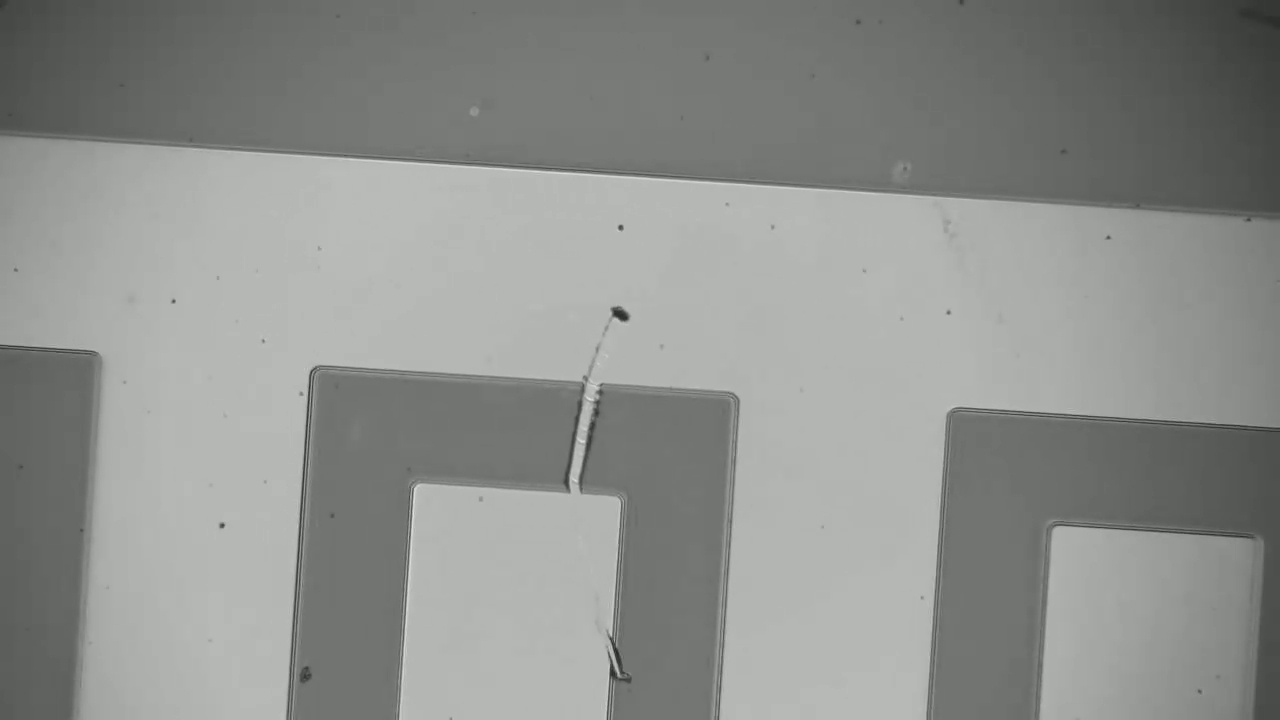Short_circuit: (539, 357, 609, 510)
